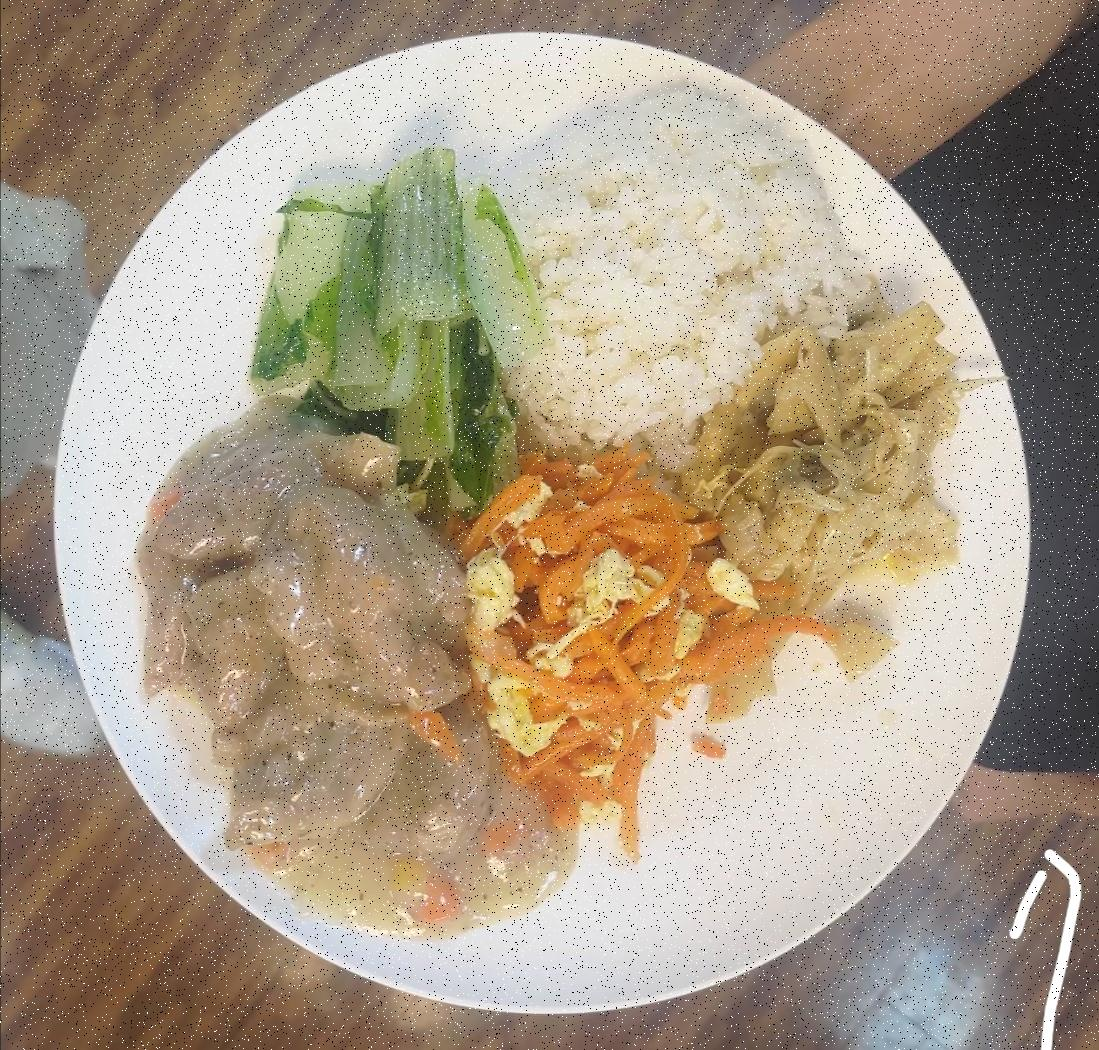plate: (50, 23, 1040, 1013)
side dish: (443, 446, 713, 798), (689, 303, 973, 609), (266, 155, 524, 476)
white rice: (479, 73, 833, 446)
white sauce chicken: (138, 408, 575, 921)
